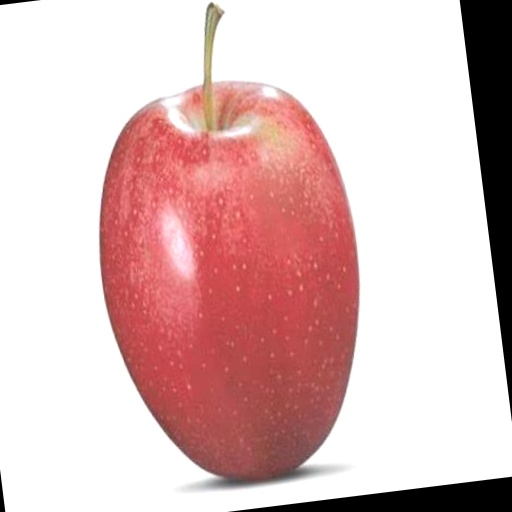fruit: (100, 4, 359, 479)
